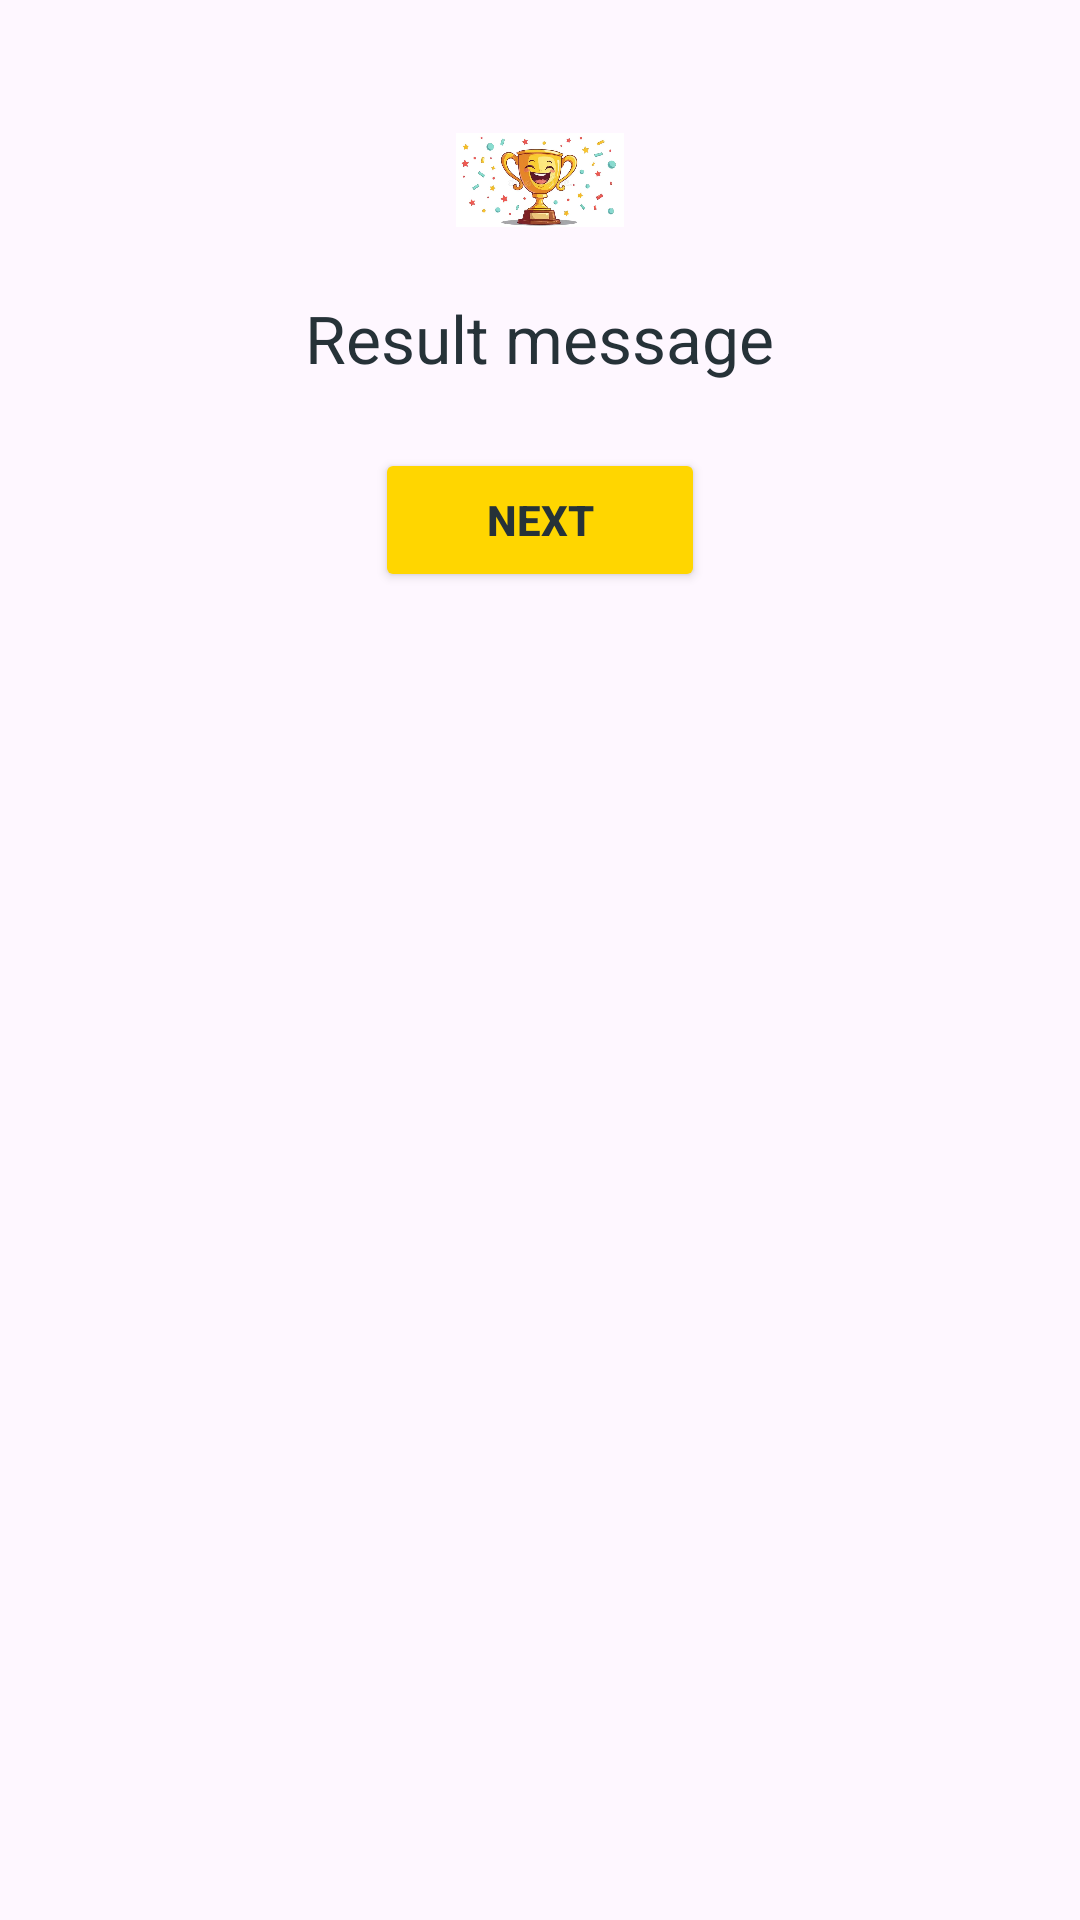

Icon click points for this 1080*1920 phone screenshot, format [x,y]:
trophy: [539,181]
